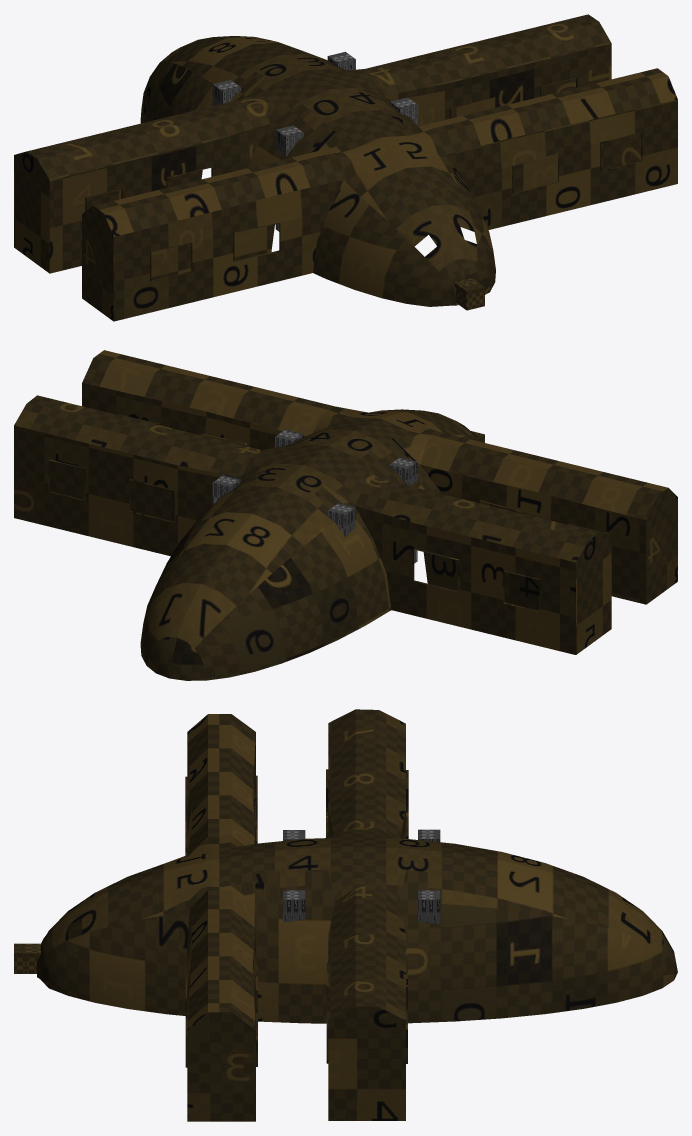
The model's file is second_Temple_Layout.fbx.
3 renders of one model, top to bottom at view 1: azimuth 30°, elevation 25°; view 2: azimuth 150°, elevation 25°; view 3: azimuth 270°, elevation 25°, orthographic. The views are drawn at different scales.
Parts seen in each view (by area): view 1: Dome, Entryway, Pillar_4, Pillar_3; view 2: Dome, Pillar_3, Pillar_4; view 3: Dome, Entryway, Pillar_2, Pillar_1.
Boxes of the visible parts, <box> form: Dome: <box>14,14,677,321</box>; Entryway: <box>454,278,484,310</box>; Pillar_4: <box>275,125,303,231</box>; Pillar_3: <box>212,80,240,105</box>; Dome: <box>14,350,677,680</box>; Pillar_3: <box>327,503,355,537</box>; Pillar_4: <box>389,457,417,563</box>; Dome: <box>37,709,677,1121</box>; Entryway: <box>14,943,41,973</box>; Pillar_2: <box>418,890,440,923</box>; Pillar_1: <box>283,890,305,922</box>.
Bounding box in the file's own units: 70.75 × 13.92 × 66.55.
